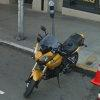Motorcycle: (15, 23, 87, 96)
